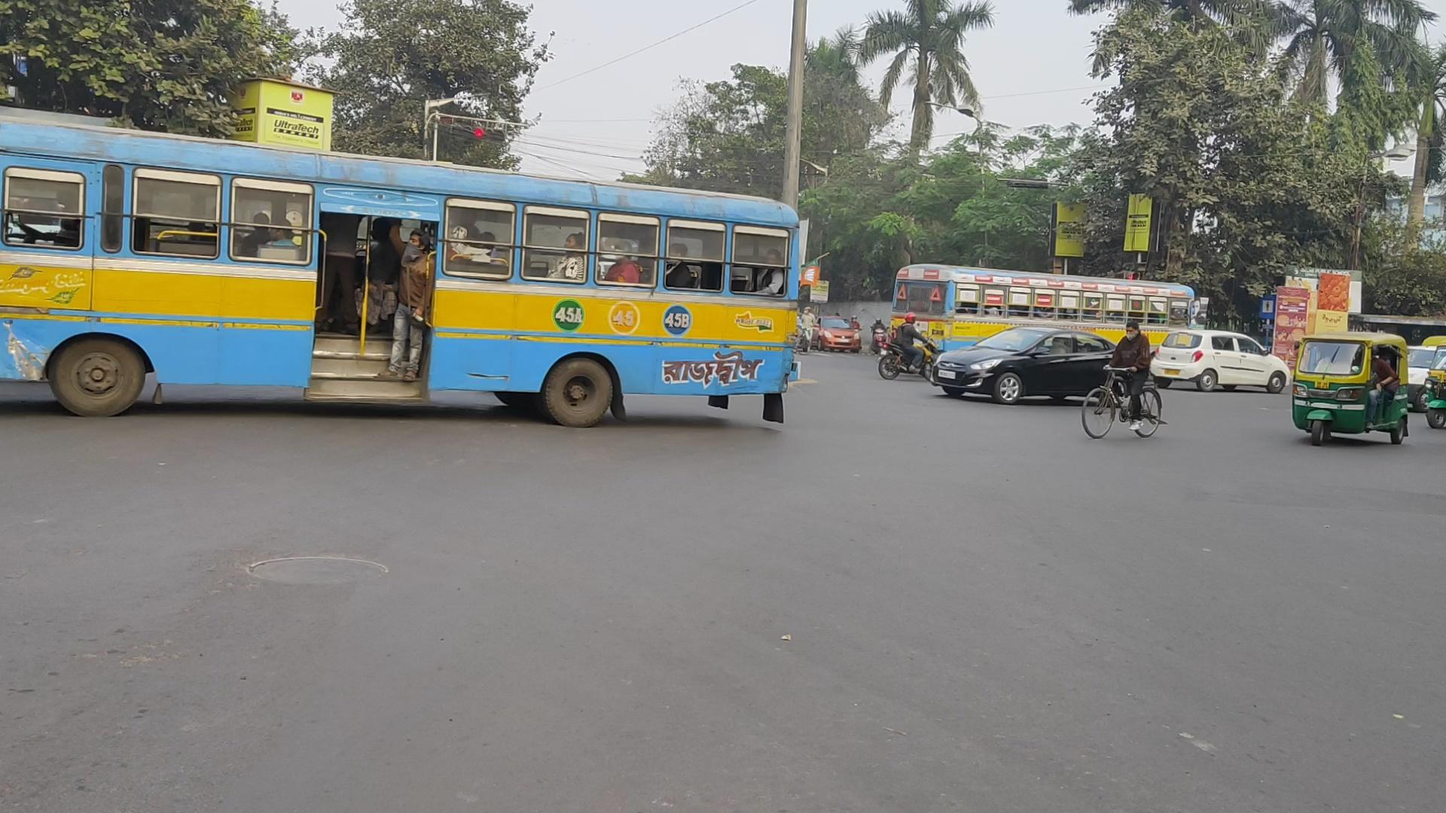Auto: (1291, 331, 1409, 447)
Bus: (1, 118, 801, 422), (891, 263, 1194, 379)
bike: (1081, 321, 1167, 438), (878, 312, 943, 381), (869, 317, 889, 355)
car: (929, 326, 1132, 407), (1149, 329, 1292, 393), (809, 315, 862, 355)
